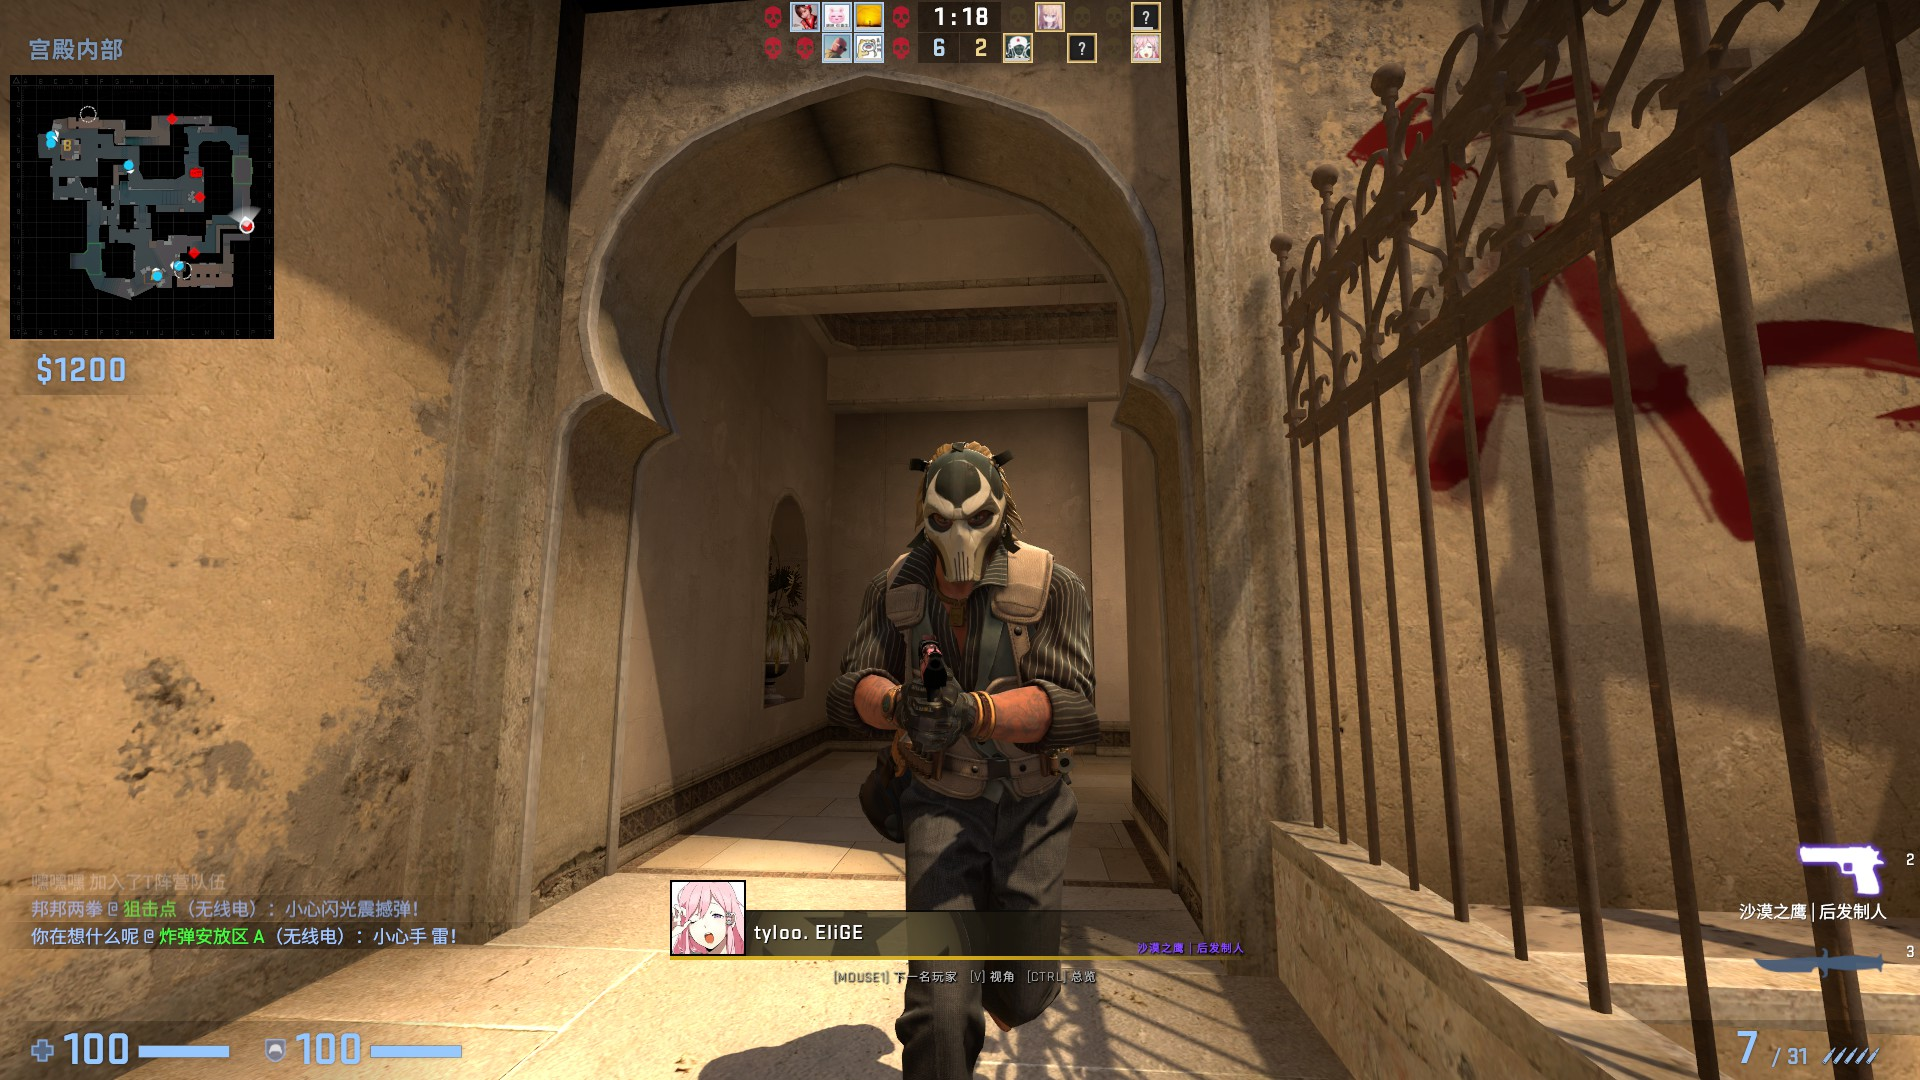head: (899, 431, 1030, 590)
